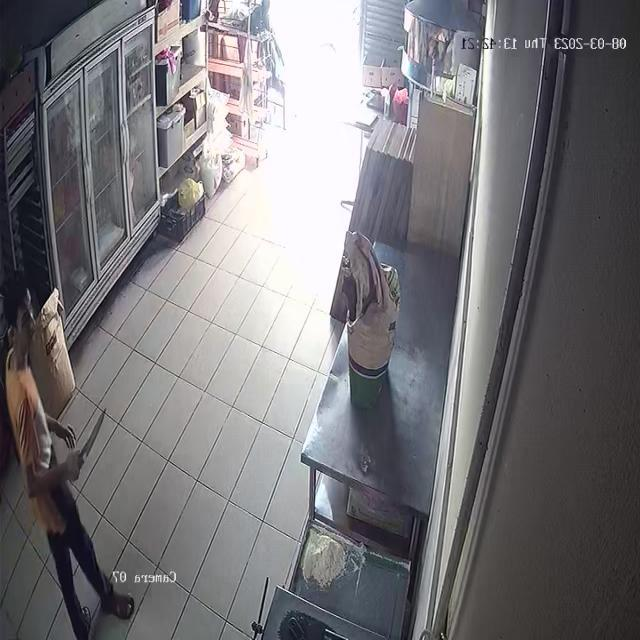Knife: (82, 406, 119, 466)
